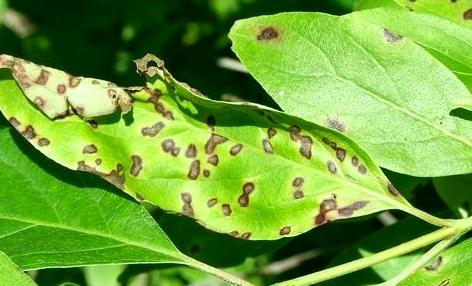Tomato leaf bacterial spot: (0, 36, 416, 250), (213, 0, 472, 177)
